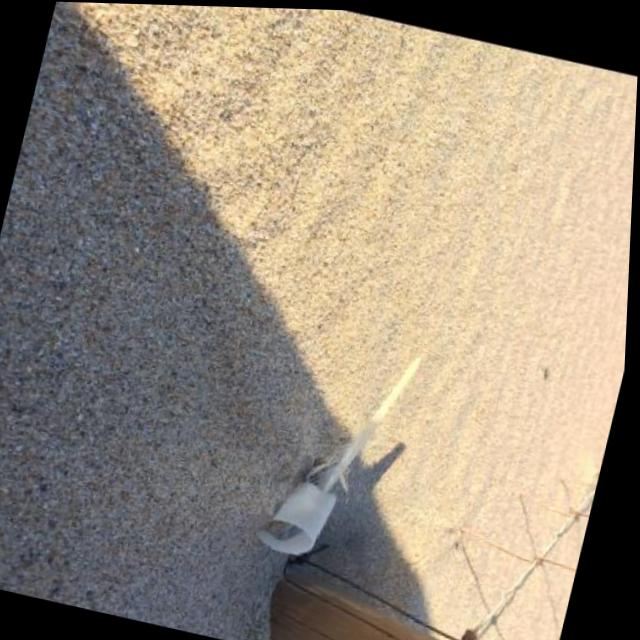plastic: (253, 471, 340, 562)
